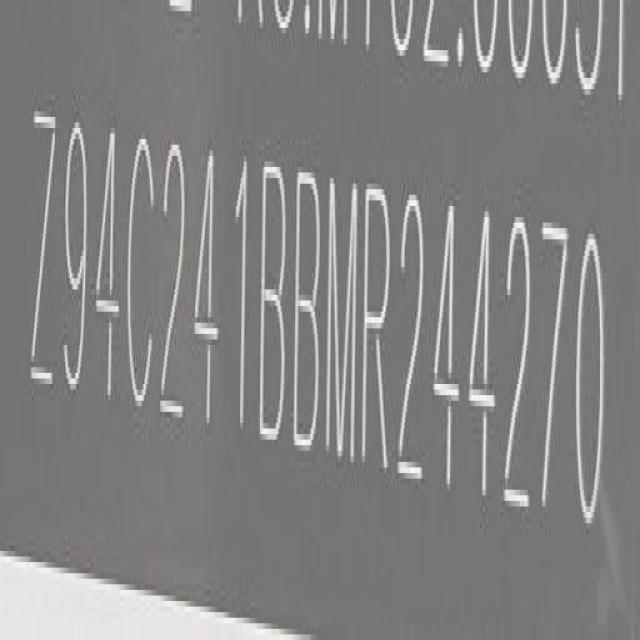0: (575, 233, 608, 533)
1: (234, 145, 251, 438)
2: (503, 211, 535, 521), (397, 188, 428, 488), (160, 132, 190, 426)
4: (464, 202, 496, 509), (432, 196, 462, 501), (195, 139, 223, 432), (95, 120, 123, 412)
7: (540, 215, 572, 526)
9: (61, 112, 88, 405)
B: (258, 152, 289, 444), (296, 160, 324, 457)
C: (128, 130, 160, 422)
M: (325, 168, 360, 464)
R: (362, 176, 394, 474)
Z: (28, 101, 61, 401)
